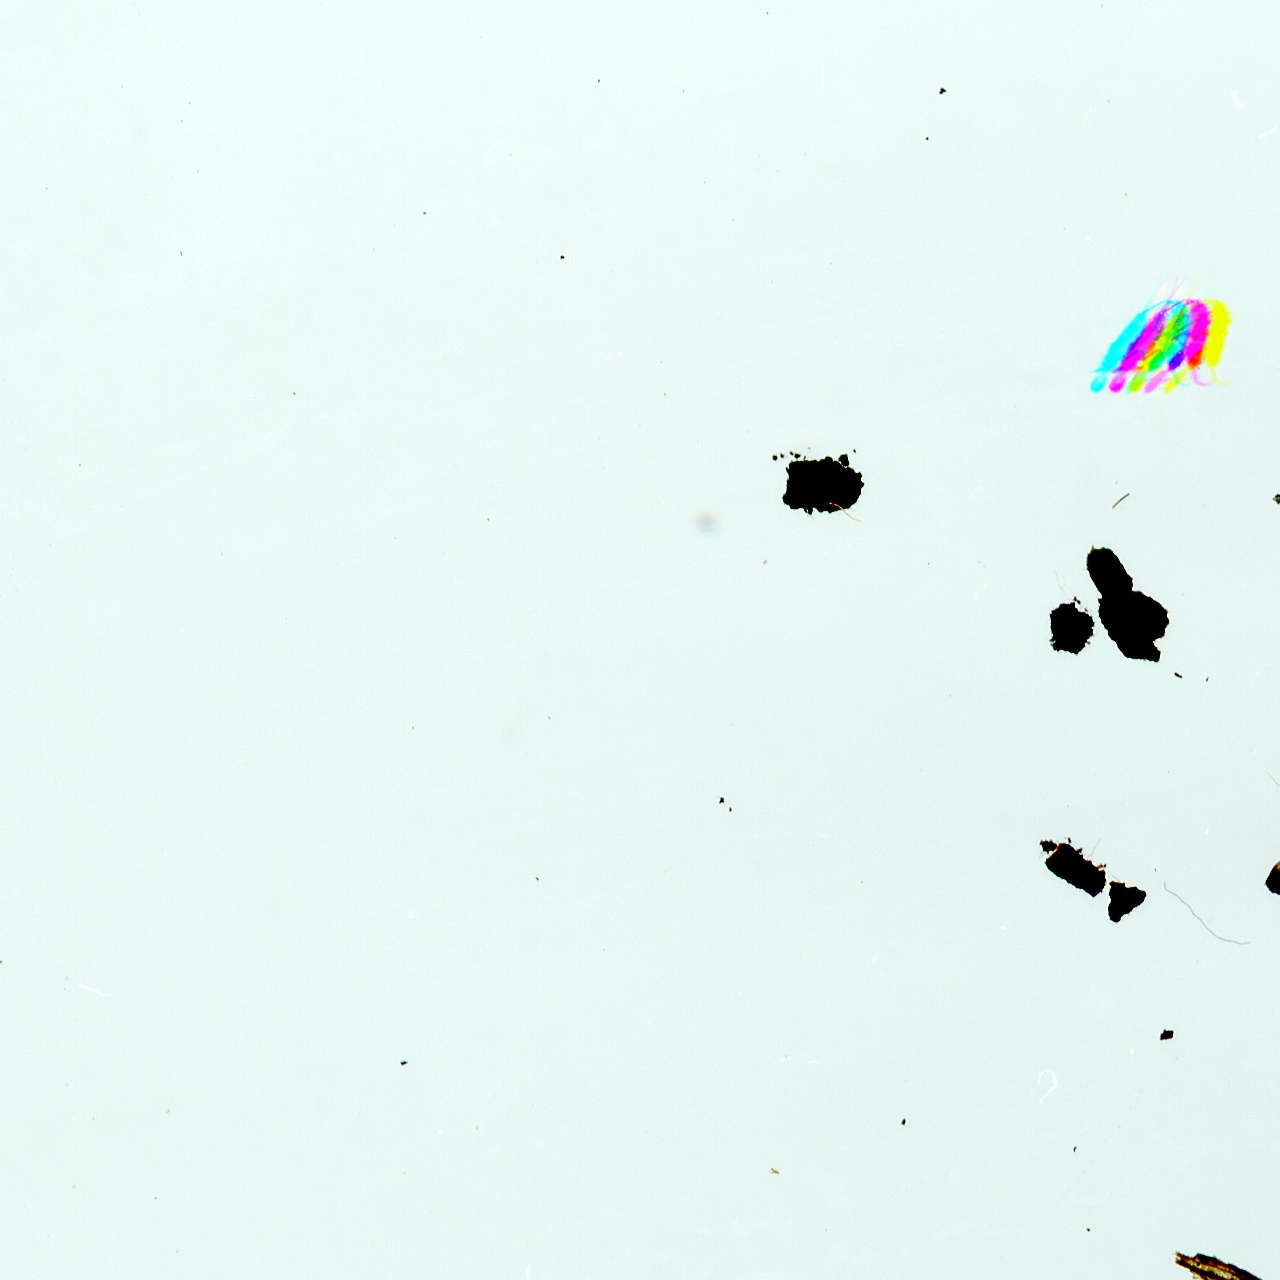arthropod: (1106, 300, 1168, 395), (1173, 286, 1219, 392)
